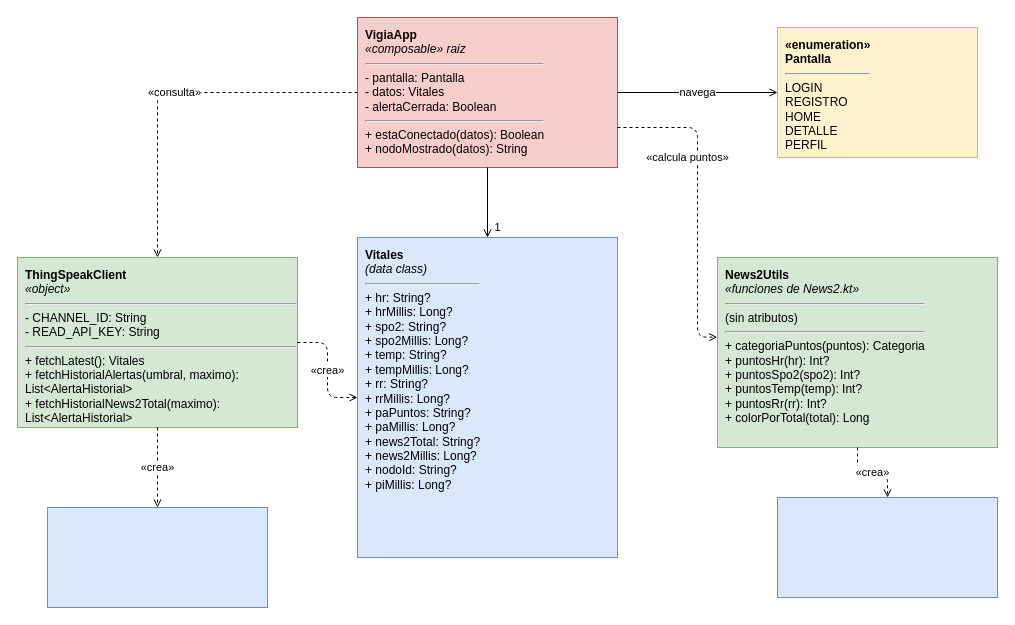
The diagram is 1015 pixels wide and 625 high, and some of its shapes have lost their labels. Here are the shapes that lost their labels. From the top down, the centre of each, then its label:
At (x=157, y=557): "AlertaHistorial (data class) + millis: Long + total: Int".
At (x=887, y=547): "Categoria (data class) + etiqueta: String + colorHex: Long".
